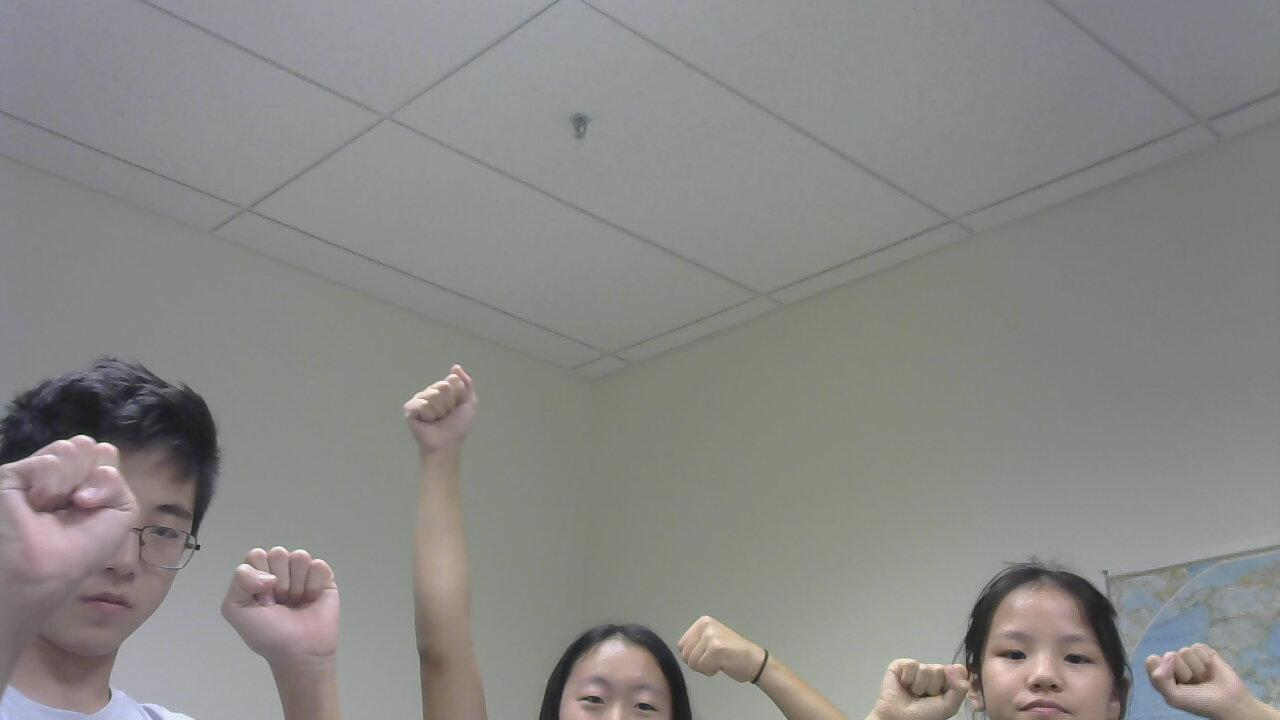fist: (6, 437, 147, 608), (216, 532, 364, 666), (391, 362, 522, 478), (666, 599, 779, 699), (1140, 641, 1280, 719), (856, 647, 967, 716)
